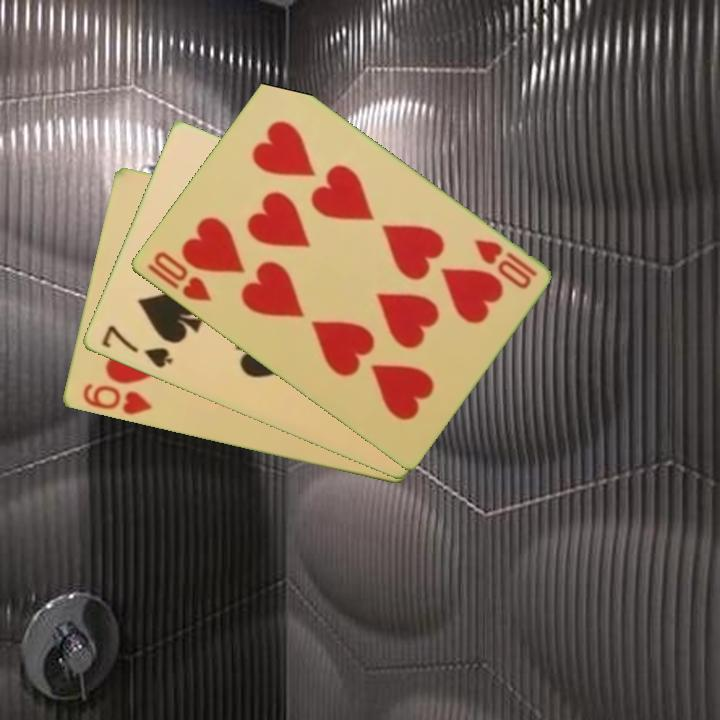10h: (142, 247, 214, 305), (470, 235, 540, 293)
6h: (78, 380, 154, 418)
7s: (97, 322, 175, 371)
